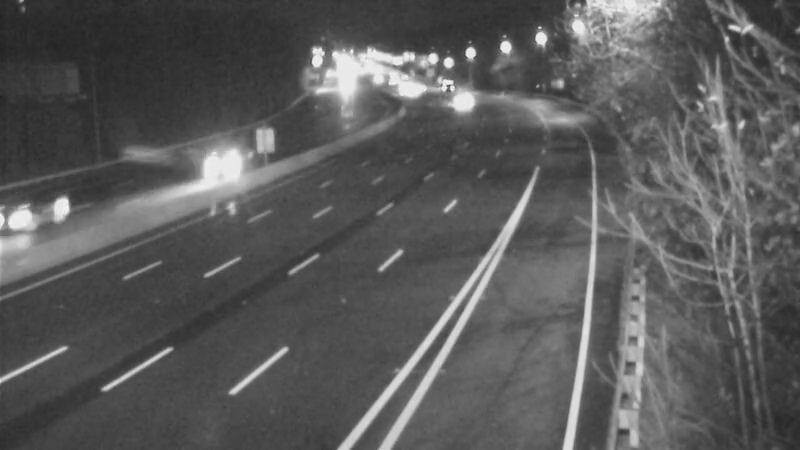vehicle: (181, 122, 261, 202), (1, 174, 78, 254), (417, 63, 467, 113), (436, 77, 486, 127)
